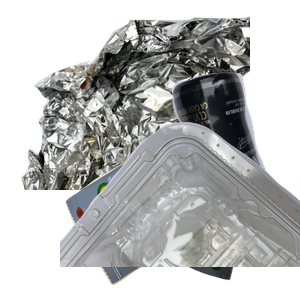glass: (106, 70, 300, 250)
metal: (19, 14, 259, 194)
plastic: (60, 120, 300, 300)
trash: (63, 137, 289, 300)
